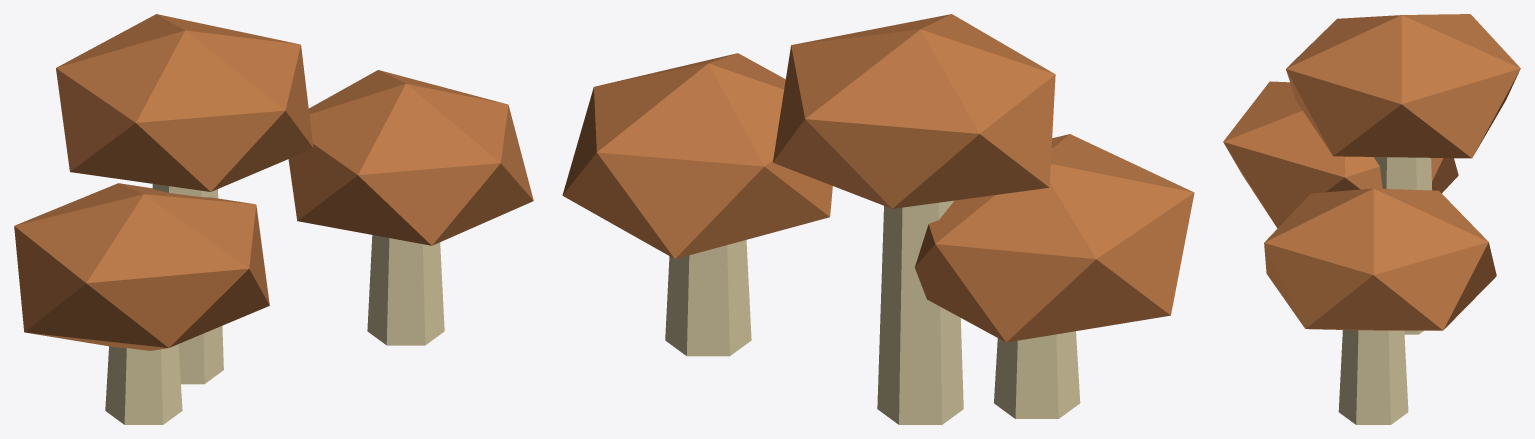
The model's file is SM_Mushrooms.fbx.
3 renders of one model, left to right at view 1: azimuth 30°, elevation 25°; view 2: azimuth 150°, elevation 25°; view 3: azimuth 270°, elevation 25°, orthographic. The views are drawn at different scales.
Visible parts, largest first — view 1: SM_Mushrooms; view 2: SM_Mushrooms; view 3: SM_Mushrooms.
Boxes of the visible parts, x1,y1,x2,y2 form: SM_Mushrooms: (14,14,533,424); SM_Mushrooms: (562,14,1194,424); SM_Mushrooms: (1223,14,1520,424).
Size of the model in its own units: 0.6725 by 0.384 by 0.4364.
